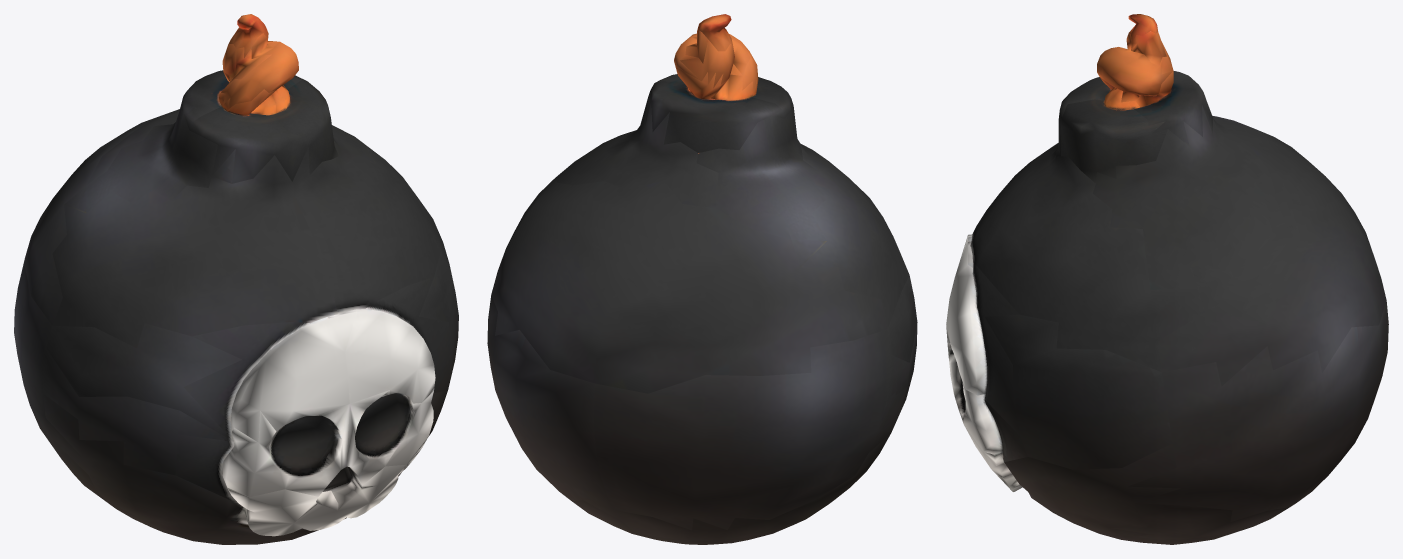
The model's file is MODEL_Bomb.fbx.
3 renders of one model, left to right at view 1: azimuth 30°, elevation 25°; view 2: azimuth 150°, elevation 25°; view 3: azimuth 270°, elevation 25°, orthographic. The views are drawn at different scales.
Parts seen in each view (by area): view 1: bomb; view 2: bomb; view 3: bomb.
Boxes of the visible parts, x1,y1,x2,y2 form: bomb: [14, 14, 458, 544]; bomb: [487, 14, 917, 544]; bomb: [946, 14, 1388, 544].
Size of the model in its own units: 30.54 by 38.92 by 30.85.
1 material, 1 textured.
